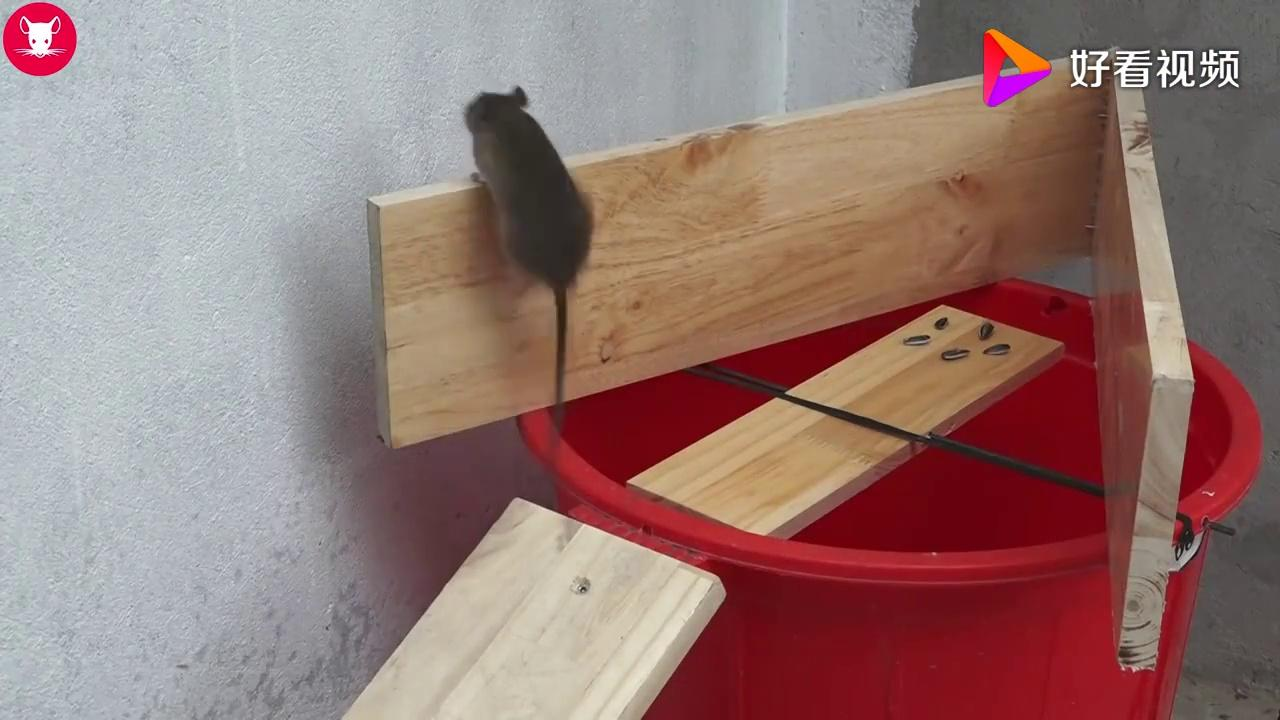rat: (445, 71, 604, 378)
